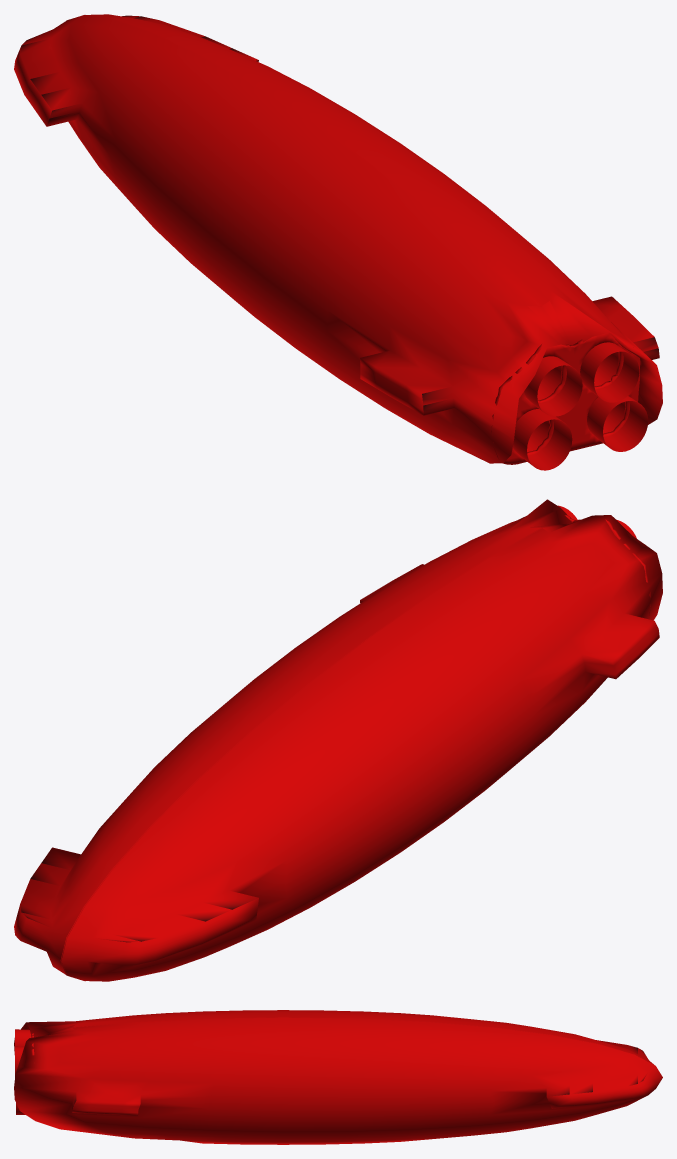
The model's file is bob02.fbx.
3 views of the same model, one above another, from view 1: azimuth 30°, elevation 25°; view 2: azimuth 150°, elevation 25°; view 3: azimuth 270°, elevation 25° (orthographic). The views are drawn at different scales.
Visible parts, largest first — view 1: Sphere_005; view 2: Sphere_005; view 3: Sphere_005.
Boxes of the visible parts, <box> form: Sphere_005: <box>14,14,662,470</box>; Sphere_005: <box>14,499,662,981</box>; Sphere_005: <box>14,1010,662,1144</box>.
Size of the model in its own units: 2.74 by 1.83 by 9.81.
